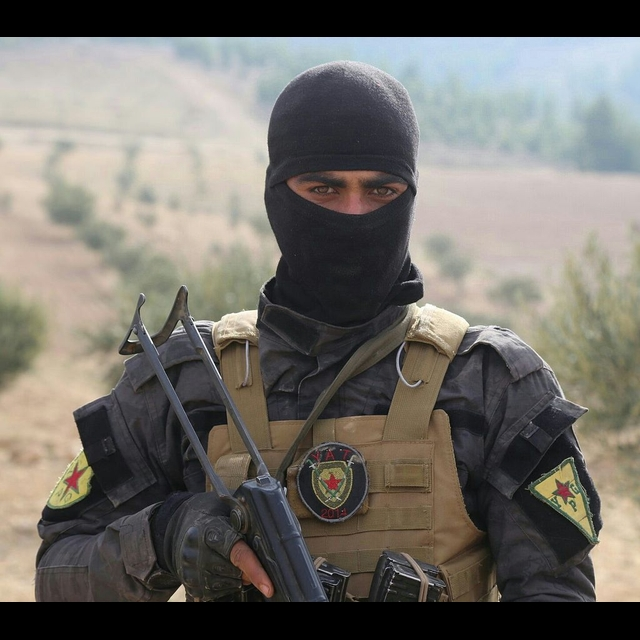YPG: (536, 467, 589, 522)
